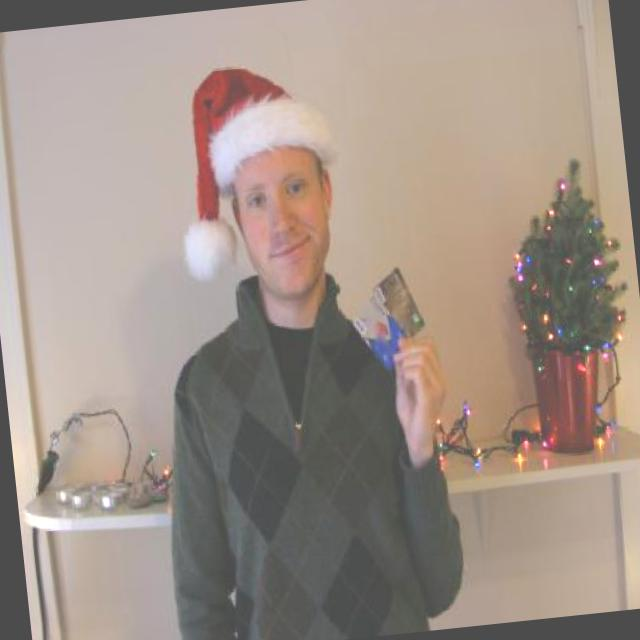Person: (122, 42, 475, 640)
